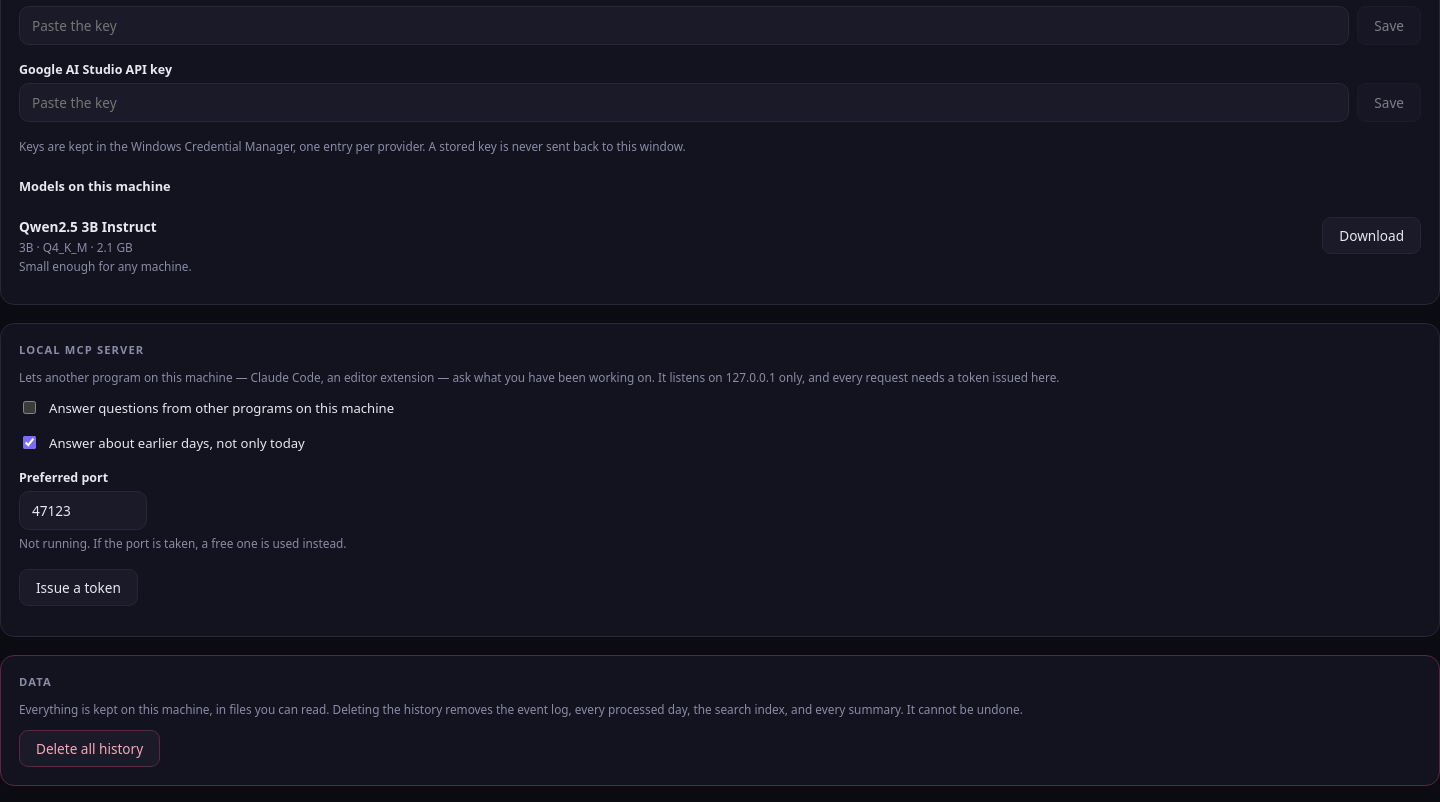
Test case: Settings — recording and data › deletes everything once confirmed and says what went
(page scrolled)
What coordinates should you click on to do the following:
click the button "Delete all history"
I would click on:
 (90, 749)
Its box is [19,730,160,768].
(page scrolled)
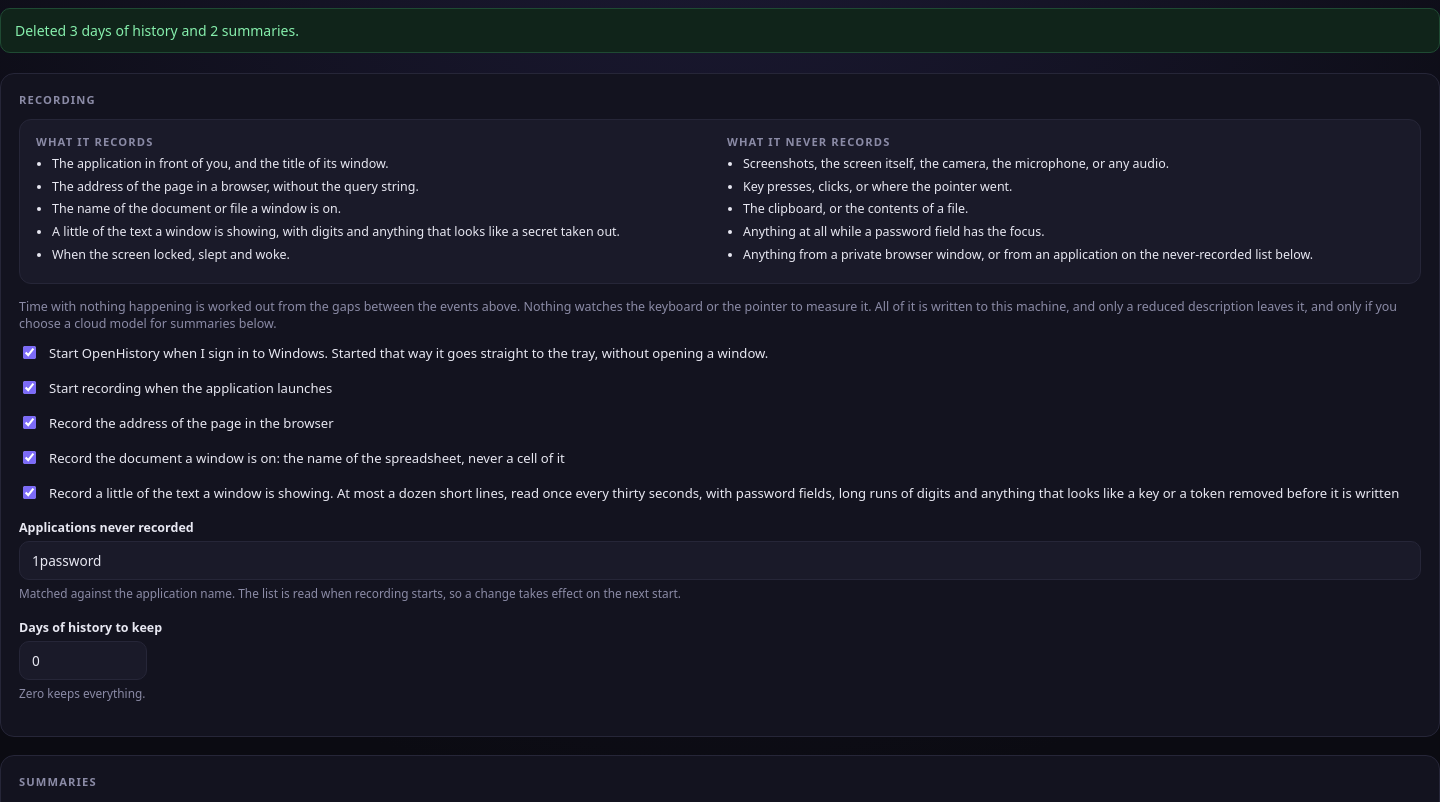
Expected: the text "Deleted 3 days of history and 2 summaries." is shown, [0,8,1439,53]
